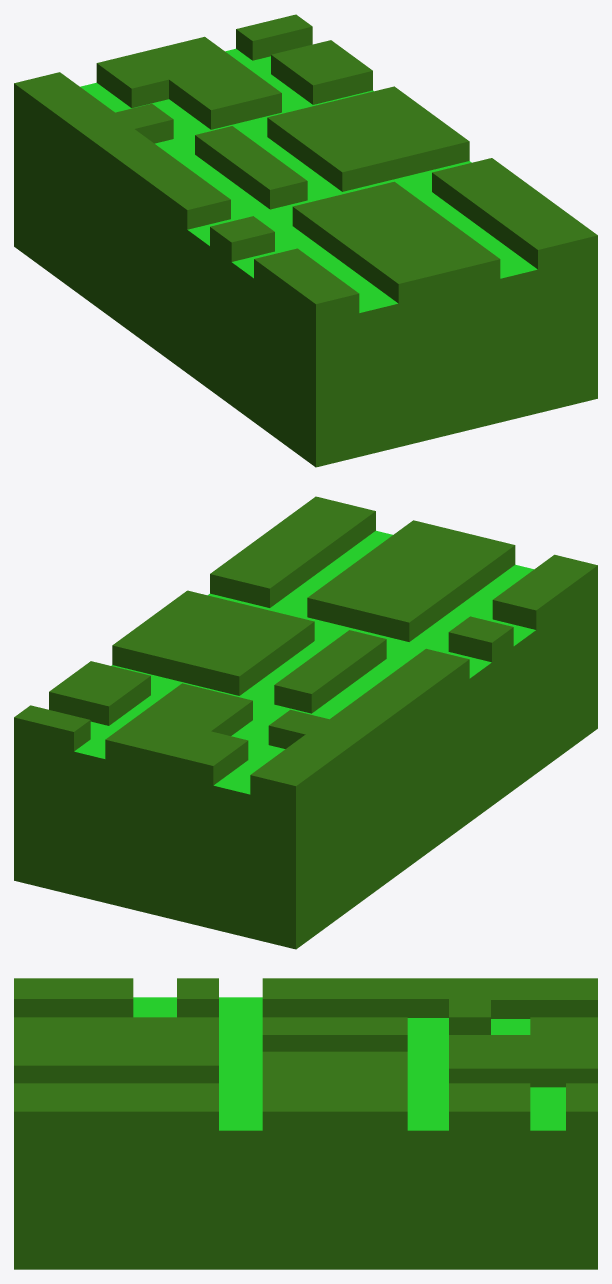
File: iki çıkışlı 3.fbx
The picture shows the model from 3 angles, top to bottom: view 1: azimuth 30°, elevation 25°; view 2: azimuth 150°, elevation 25°; view 3: azimuth 270°, elevation 25°; orthographic projection. The views are drawn at different scales.
Parts seen in each view (by area): view 1: Cube; view 2: Cube; view 3: Cube.
Part boxes in pixels (left/top/right/bottom): Cube: left=14, top=14, right=597, bottom=467; Cube: left=14, top=496, right=597, bottom=949; Cube: left=14, top=978, right=597, bottom=1269.
Size of the model in its own units: 3016 by 1668 by 5590.
